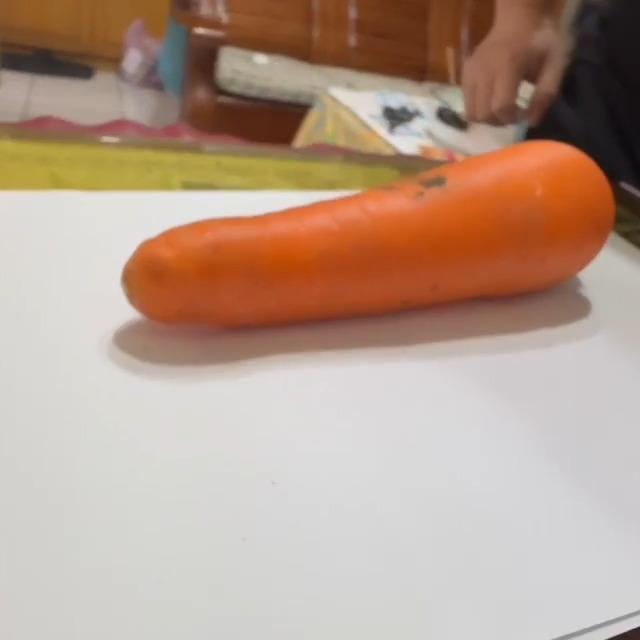carrot: (119, 138, 619, 332)
